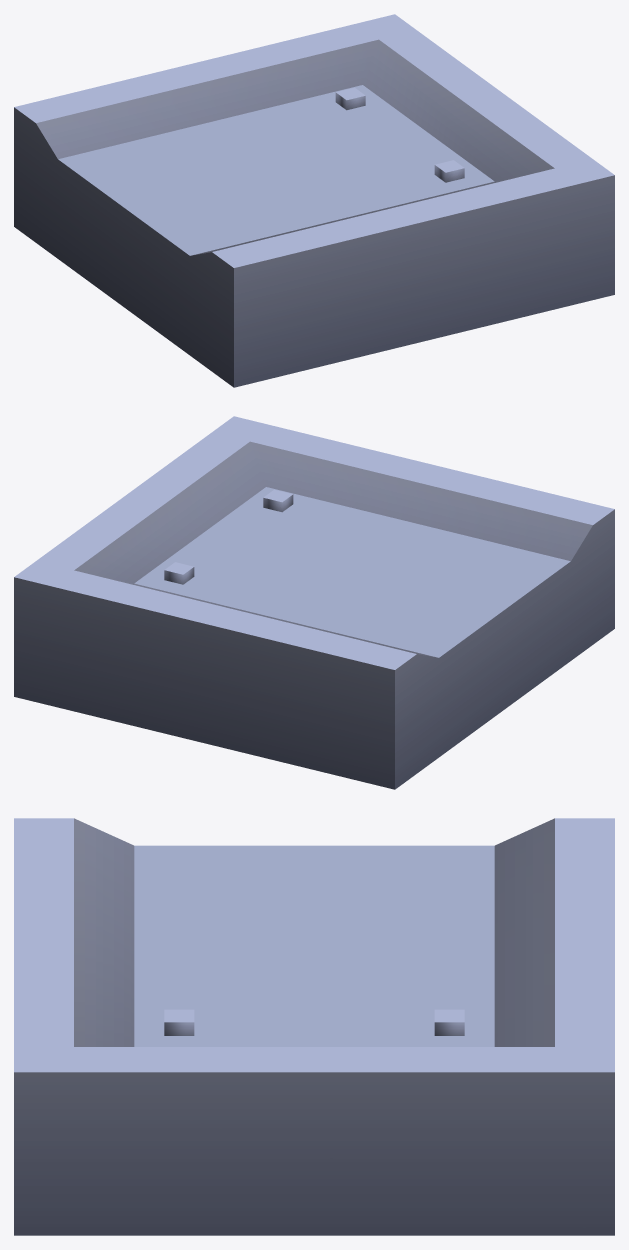
The model's file is floor-panel-end.glb.
The picture shows the model from 3 angles, top to bottom: view 1: azimuth 30°, elevation 25°; view 2: azimuth 150°, elevation 25°; view 3: azimuth 270°, elevation 25°; orthographic projection. The views are drawn at different scales.
Visible parts, largest first — view 1: floor-panel-end; view 2: floor-panel-end; view 3: floor-panel-end.
Boxes of the visible parts, box(x1,y1,x2,y2) form: floor-panel-end: box(14, 14, 614, 387); floor-panel-end: box(14, 416, 614, 789); floor-panel-end: box(14, 818, 614, 1235).
Bounding box in the file's own units: 1 × 0.3 × 1.
1 material, 1 textured.
